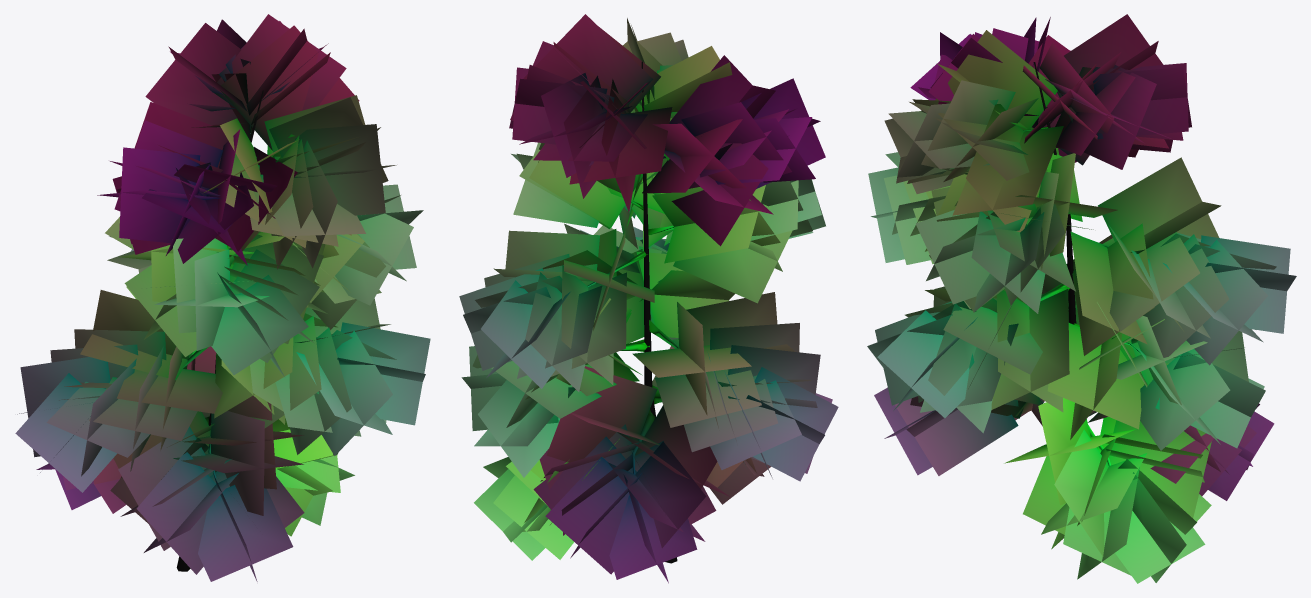
Rendered from URP_P14_Tree_5_LOD_3.fbx.
3 renders of one model, left to right at view 1: azimuth 30°, elevation 25°; view 2: azimuth 150°, elevation 25°; view 3: azimuth 270°, elevation 25°, orthographic. The views are drawn at different scales.
Parts seen in each view (by area): view 1: Tree_5_LOD_3; view 2: Tree_5_LOD_3; view 3: Tree_5_LOD_3.
Part boxes in pixels (x1=…): Tree_5_LOD_3: x1=15, y1=14, x2=430, y2=581; Tree_5_LOD_3: x1=459, y1=14, x2=838, y2=583; Tree_5_LOD_3: x1=867, y1=14, x2=1296, y2=583.
Bounding box in the file's own units: 395 × 565 × 408.
